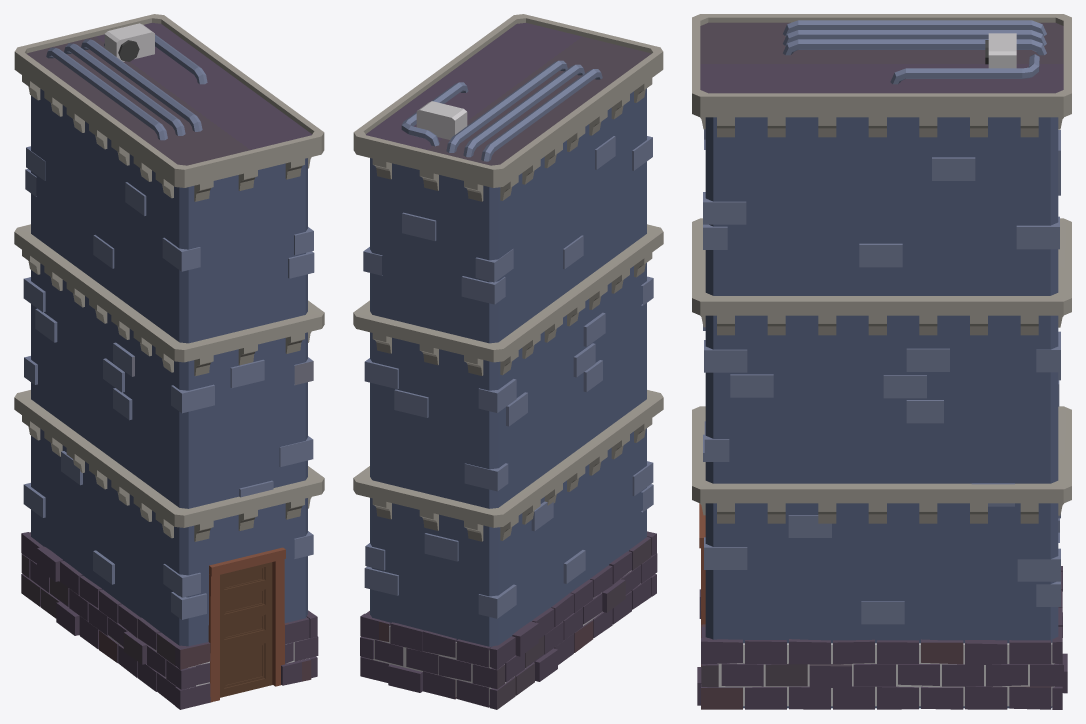
File: 3Story Slim.glb
3 views of the same model, side by side, from view 1: azimuth 30°, elevation 25°; view 2: azimuth 150°, elevation 25°; view 3: azimuth 270°, elevation 25° (orthographic). The views are drawn at different scales.
Visible parts, largest first — view 1: 3Story_Slim; view 2: 3Story_Slim; view 3: 3Story_Slim.
Part boxes in pixels (<box>): 3Story_Slim: <box>14,14,324,709</box>; 3Story_Slim: <box>353,14,663,709</box>; 3Story_Slim: <box>692,14,1071,709</box>.
Size of the model in its own units: 2.68 by 9.58 by 5.17.
1 material, 1 textured.
